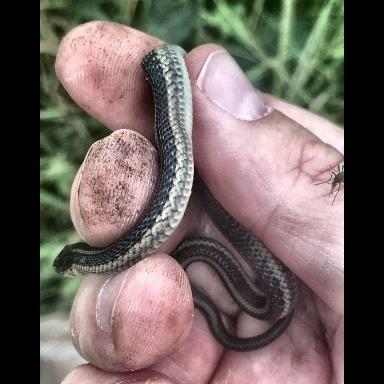snake: (52, 44, 298, 353)
